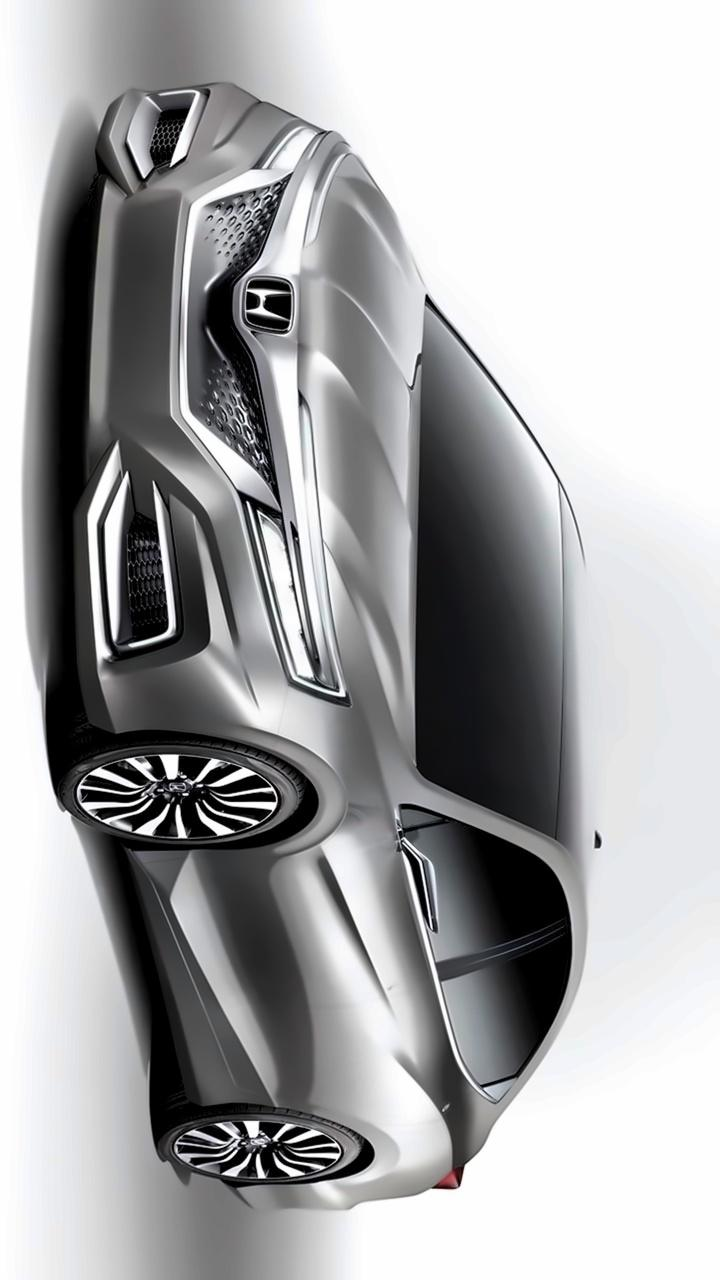Car hood: (274, 136, 428, 785)
Fender - -F-L-: (112, 695, 470, 878)
Fender - -R-L-: (219, 1085, 561, 1217)
Front bumper: (72, 84, 315, 760)
Headlight - -L-: (236, 481, 353, 705)
Headlight - -R-: (250, 114, 336, 183)
Passenger-s door - -F-L-: (120, 800, 587, 990)
Passenger-s door - -R-L-: (164, 920, 600, 1135)
Side bumper - -L-: (114, 844, 283, 1121)
Side mirror - -L-: (392, 834, 445, 945)
